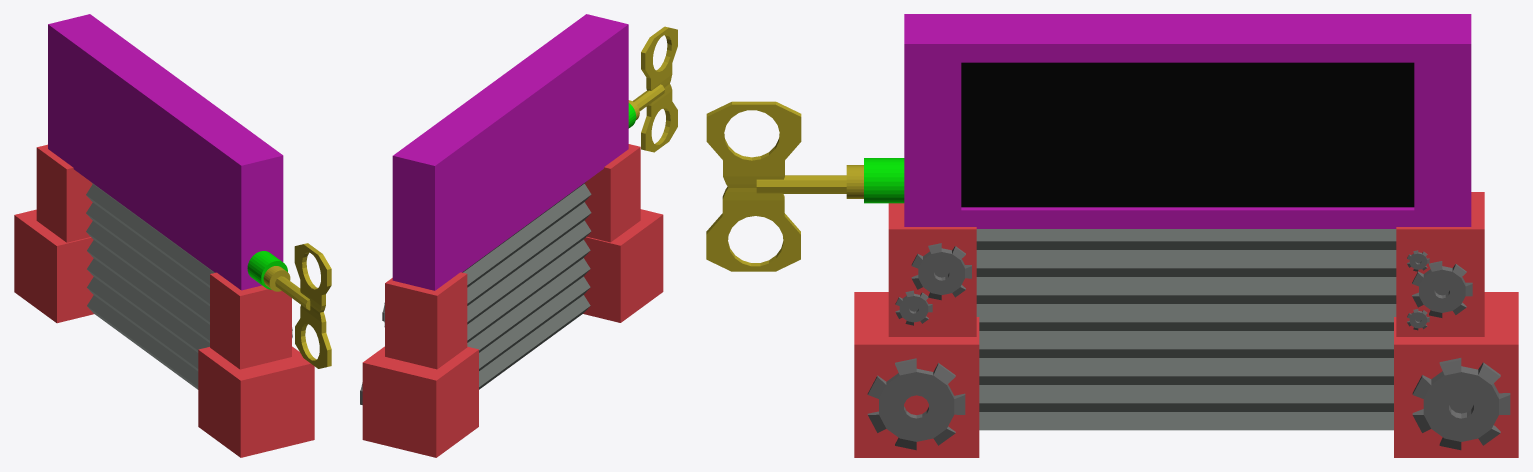
File: gate_ggj20.fbx
The picture shows the model from 3 angles, left to right: view 1: azimuth 30°, elevation 25°; view 2: azimuth 150°, elevation 25°; view 3: azimuth 270°, elevation 25°; orthographic projection. The views are drawn at different scales.
Visible parts, largest first — view 1: screen, support, Door, support.001, key.001; view 2: screen, support.001, Door, support, key.001; view 3: screen, Door, support, support.001, key.001, gear.005, gear.004, gear.002, gear.001, gear.
Part boxes in pixels (x1=…): screen: x1=48, y1=14, x2=283, y2=290; support: x1=198, y1=272, x2=314, y2=457; Door: x1=86, y1=182, x2=214, y2=389; support.001: x1=14, y1=144, x2=93, y2=323; key.001: x1=247, y1=243, x2=331, y2=368; screen: x1=392, y1=14, x2=628, y2=290; support.001: x1=362, y1=272, x2=478, y2=457; Door: x1=462, y1=181, x2=591, y2=389; support: x1=583, y1=144, x2=663, y2=322; key.001: x1=628, y1=26, x2=677, y2=152; screen: x1=904, y1=14, x2=1471, y2=228; Door: x1=976, y1=229, x2=1396, y2=430; support: x1=854, y1=203, x2=979, y2=457; support.001: x1=1394, y1=192, x2=1518, y2=457; key.001: x1=706, y1=101, x2=904, y2=271; gear.005: x1=1412, y1=358, x2=1510, y2=450; gear.004: x1=867, y1=358, x2=965, y2=450; gear.002: x1=1412, y1=261, x2=1472, y2=317; gear.001: x1=911, y1=243, x2=971, y2=300; gear: x1=895, y1=290, x2=932, y2=325.
Size of the model in its own units: 222 by 713 by 1301.
